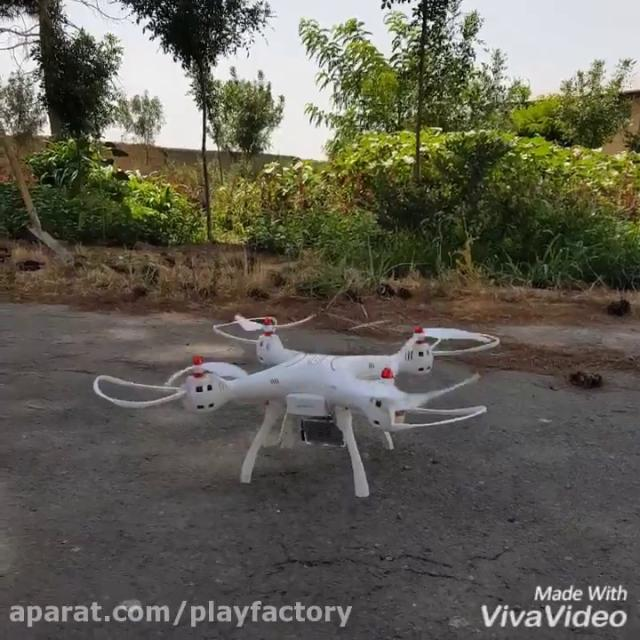drone: (91, 314, 501, 495)
